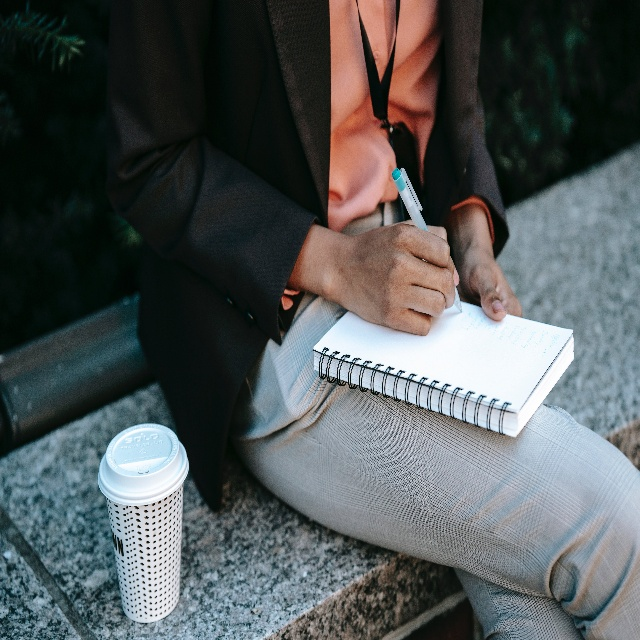Sin_guantes: (340, 219, 460, 337), (457, 243, 522, 322)
